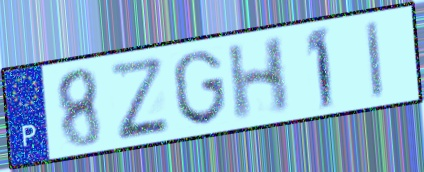1: (303, 25, 337, 111)
8: (54, 65, 104, 149)
G: (170, 47, 230, 128)
H: (224, 33, 291, 124)
I: (364, 17, 386, 101)
Z: (106, 55, 172, 143)
